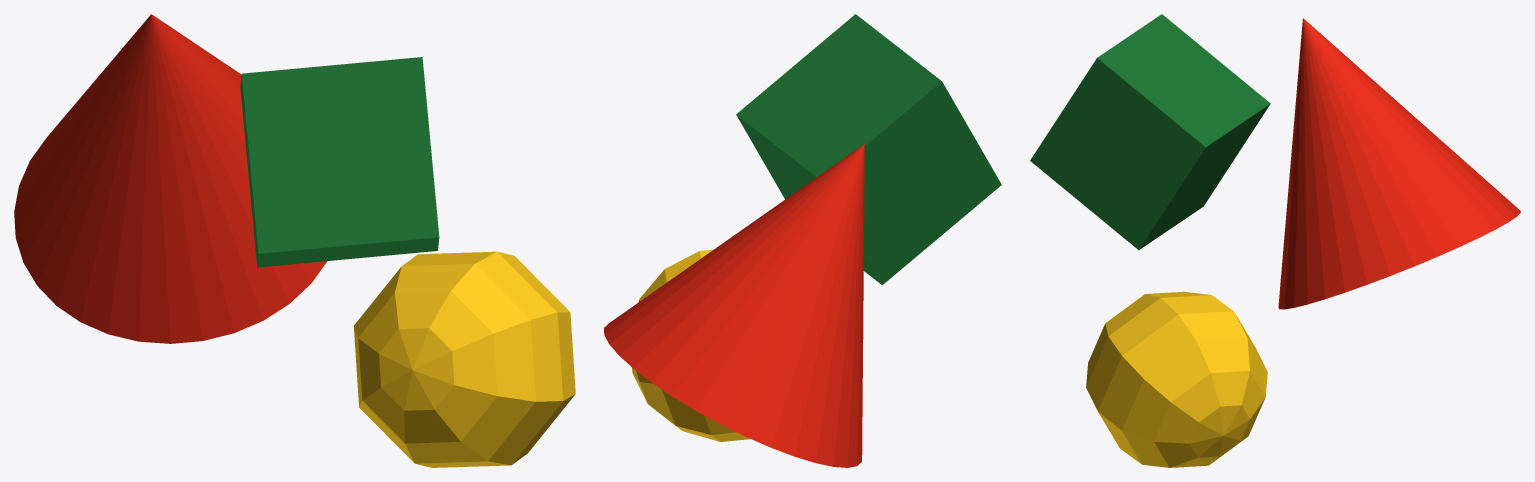
Rendered from shapes.glb.
The picture shows the model from 3 angles, left to right: view 1: azimuth 30°, elevation 25°; view 2: azimuth 150°, elevation 25°; view 3: azimuth 270°, elevation 25°; orthographic projection. The views are drawn at different scales.
Visible parts, largest first — view 1: Cone, Sphere, Cube; view 2: Cone, Cube, Sphere; view 3: Cone, Cube, Sphere.
Boxes of the visible parts, x1,y1,x2,y2 form: Cone: (14, 14, 327, 343); Sphere: (353, 251, 575, 467); Cube: (240, 57, 439, 267); Cone: (604, 144, 864, 467); Cube: (736, 14, 1001, 285); Sphere: (632, 249, 750, 441); Cone: (1278, 18, 1520, 309); Cube: (1030, 14, 1270, 249); Sphere: (1086, 291, 1267, 467).
Bounding box in the file's own units: 4.83 × 5.67 × 6.85.
